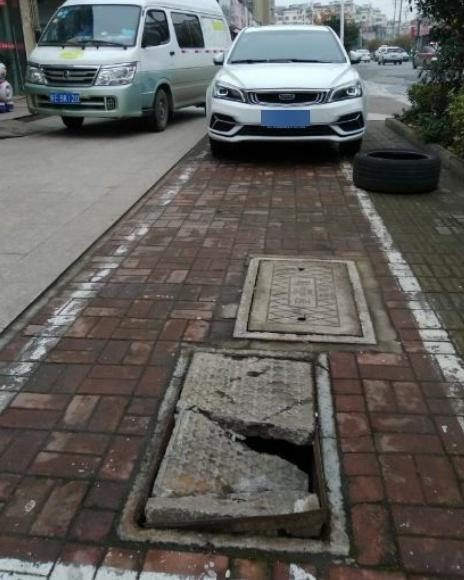wellcover: (108, 335, 359, 561), (230, 243, 384, 350)
